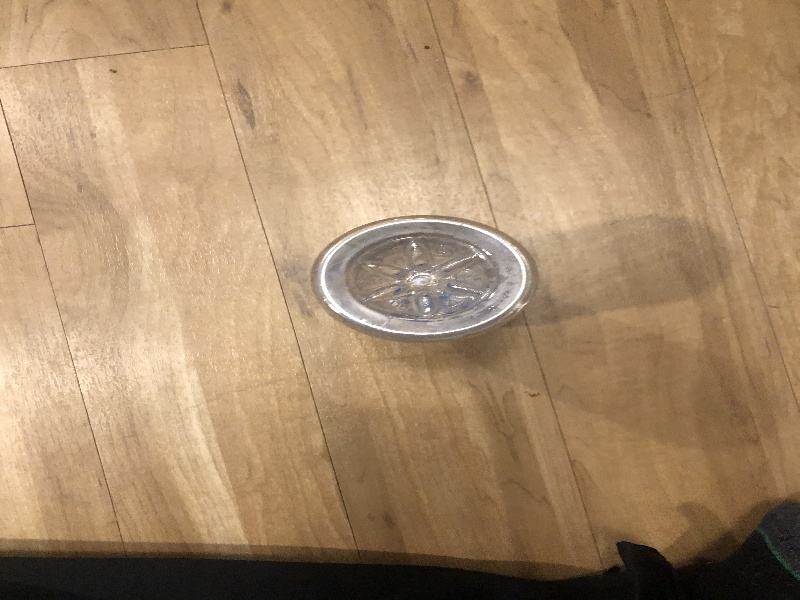plastic: (306, 210, 540, 345)
